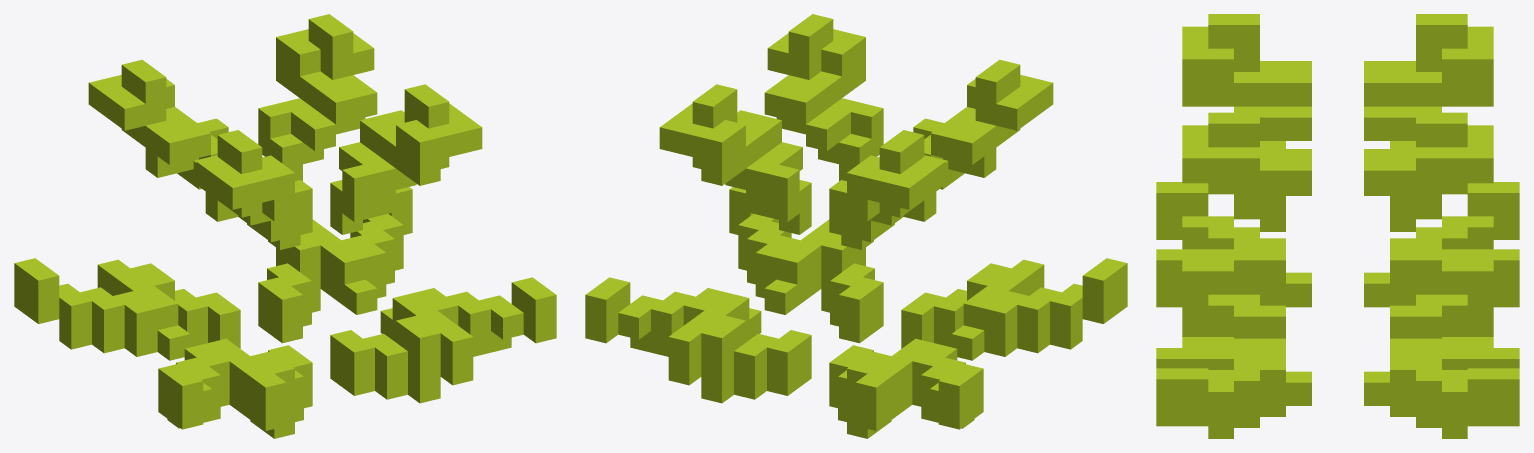
File: lightningbolt.obj
3 renders of one model, left to right at view 1: azimuth 30°, elevation 25°; view 2: azimuth 150°, elevation 25°; view 3: azimuth 270°, elevation 25°, orthographic. The views are drawn at different scales.
Size of the model in its own units: 18 by 13 by 14.
Materials: 1 (1 with a texture image).
